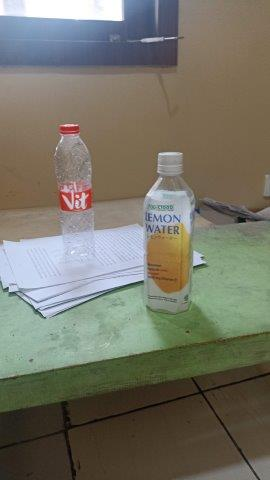botolplastik: (144, 151, 196, 316), (55, 124, 96, 262)
kertas: (1, 223, 208, 320)
